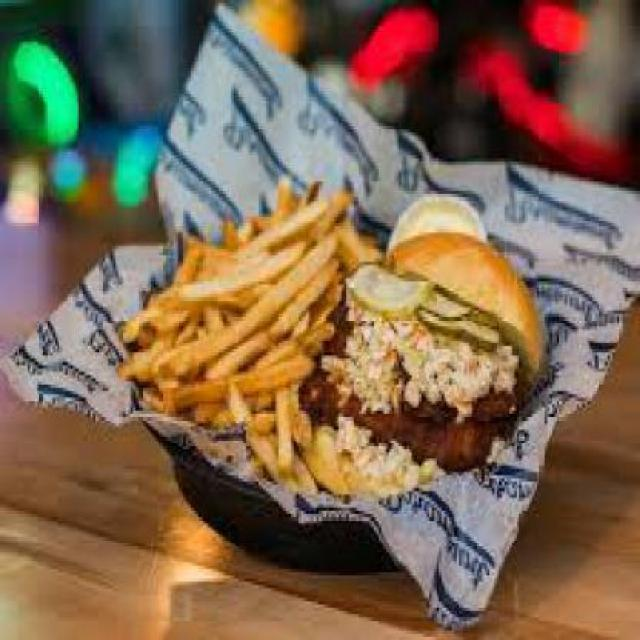french fries: (120, 174, 357, 478)
hamburger: (314, 219, 552, 495)
